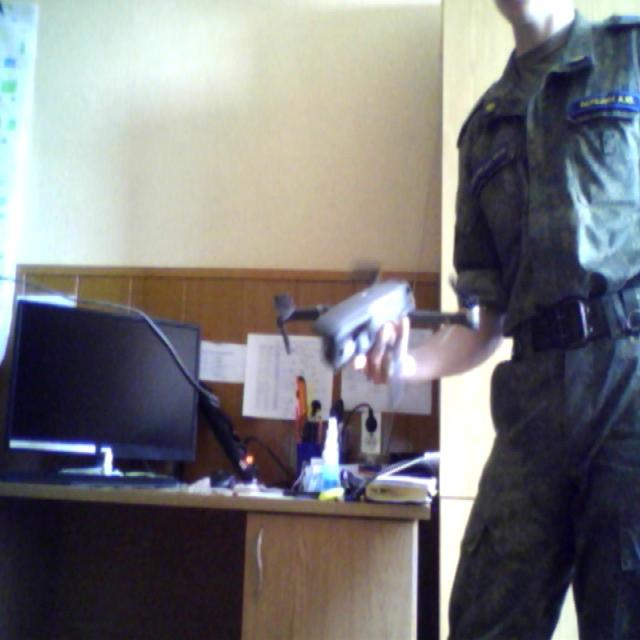drone: (268, 242, 492, 403)
